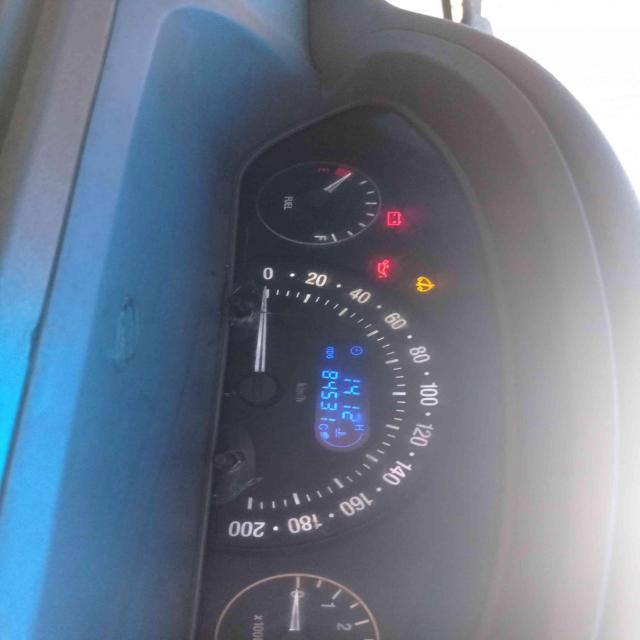Charging System Issue: (387, 211, 402, 226)
Low Engine Oil Warning Light: (376, 258, 392, 278)
